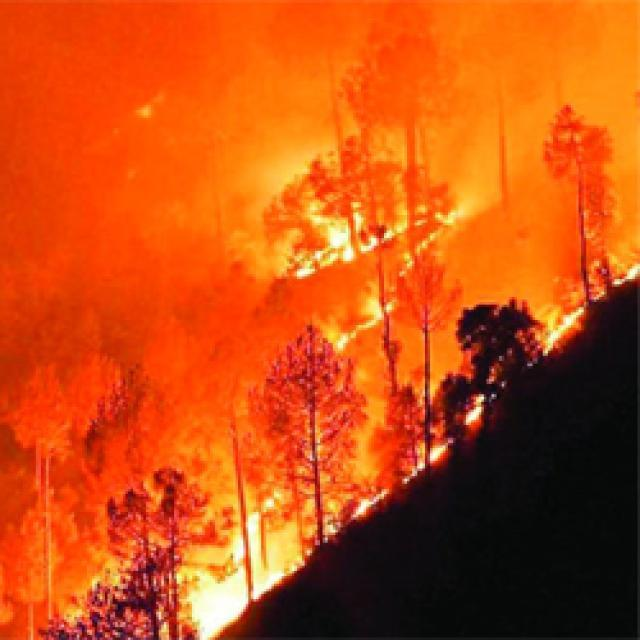Fire: (168, 507, 290, 640), (291, 200, 394, 270), (328, 297, 396, 354), (536, 302, 583, 352), (403, 442, 441, 485), (352, 490, 388, 526), (459, 384, 489, 424), (601, 258, 640, 284)
Smoke: (0, 0, 640, 202), (69, 201, 290, 419), (433, 200, 567, 298)
